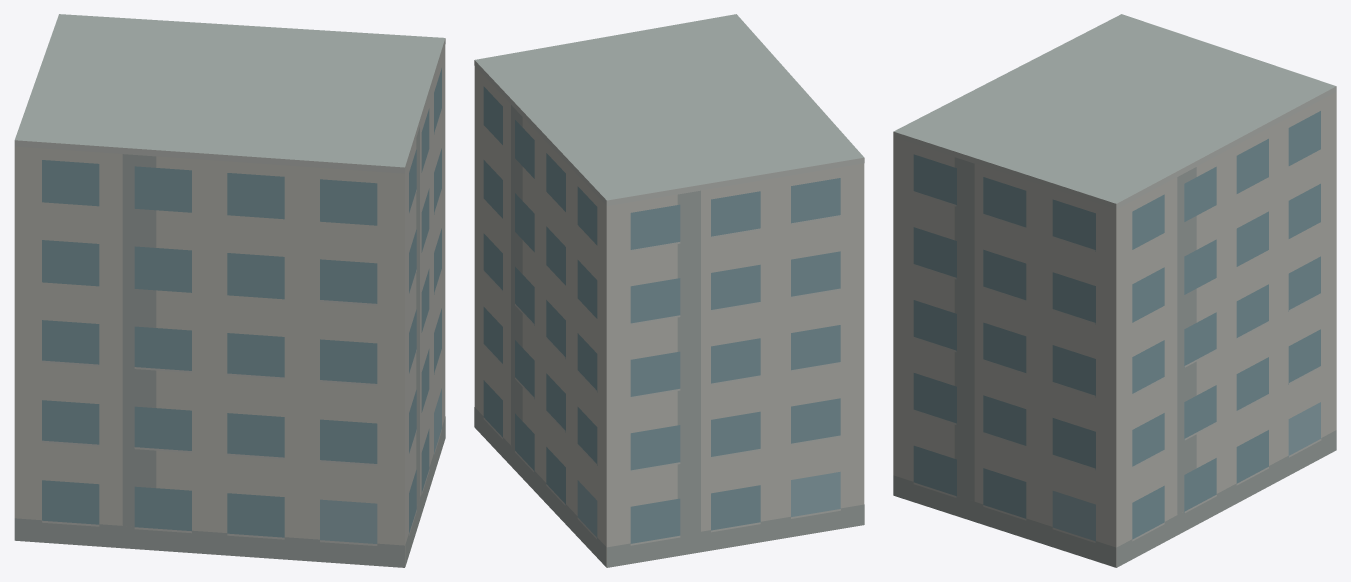
Rendered from survey-upis-32799847.glb.
3 renders of one model, left to right at view 1: azimuth 30°, elevation 25°; view 2: azimuth 150°, elevation 25°; view 3: azimuth 270°, elevation 25°, orthographic. The views are drawn at different scales.
Parts seen in each view (by area): view 1: survey-upis-32799847.tmp; view 2: survey-upis-32799847.tmp; view 3: survey-upis-32799847.tmp.
Boxes of the visible parts, x1,y1,x2,y2 form: survey-upis-32799847.tmp: (14, 14, 445, 567); survey-upis-32799847.tmp: (474, 14, 864, 567); survey-upis-32799847.tmp: (893, 14, 1336, 567).
Size of the model in its own units: 17.29 by 15.45 by 17.05.
